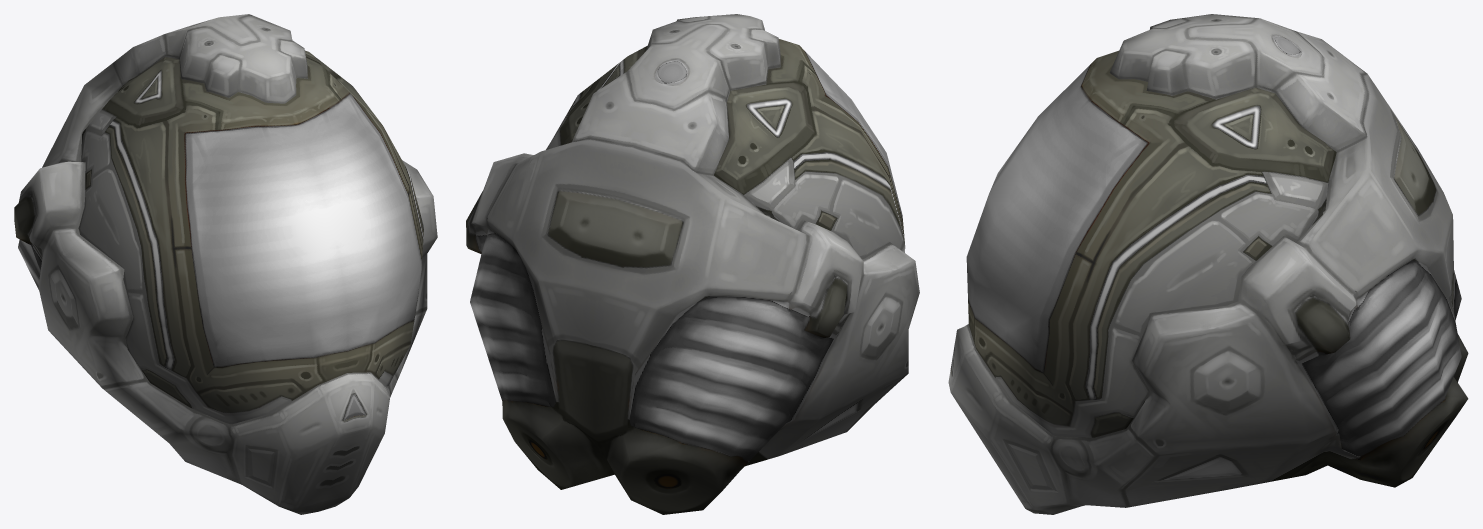
The model's file is helmet_m_beta.fbx.
The picture shows the model from 3 angles, left to right: view 1: azimuth 30°, elevation 25°; view 2: azimuth 150°, elevation 25°; view 3: azimuth 270°, elevation 25°; orthographic projection. The views are drawn at different scales.
Visible parts, largest first — view 1: mesh_helmet_beta; view 2: mesh_helmet_beta; view 3: mesh_helmet_beta.
Part boxes in pixels (<box>): mesh_helmet_beta: <box>14,14,437,514</box>; mesh_helmet_beta: <box>466,14,919,514</box>; mesh_helmet_beta: <box>948,14,1468,514</box>.
Size of the model in its own units: 3.04 by 3.46 by 3.43.
